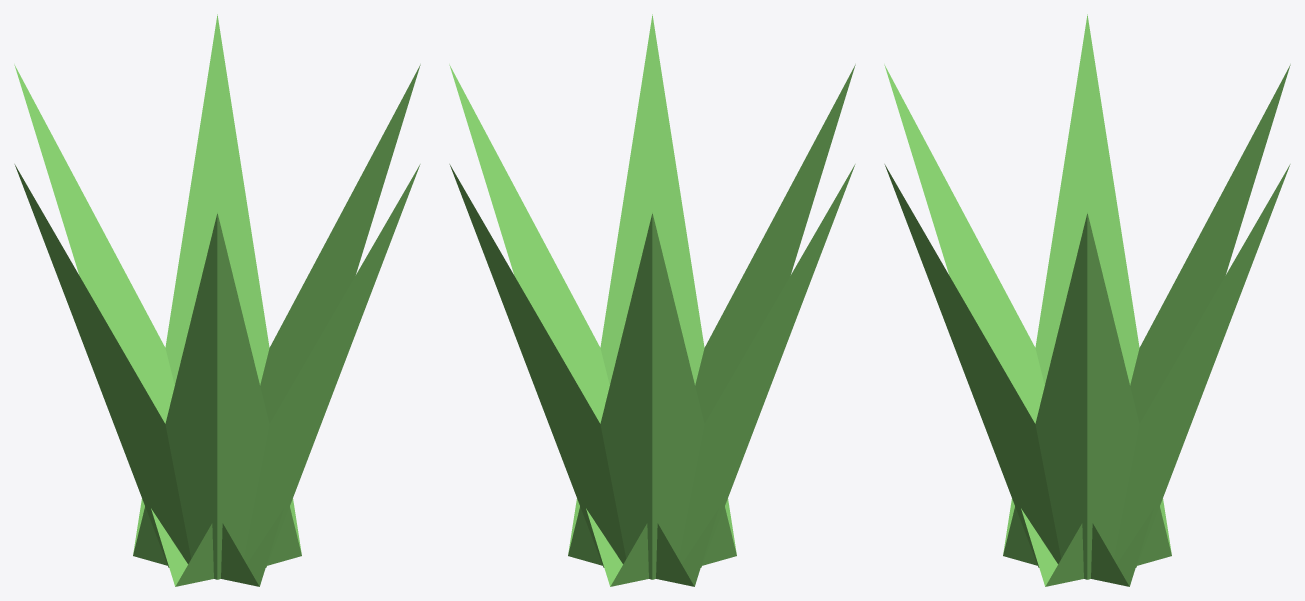
Rendered from prop_grass_tuft.glb.
The picture shows the model from 3 angles, left to right: view 1: azimuth 30°, elevation 25°; view 2: azimuth 150°, elevation 25°; view 3: azimuth 270°, elevation 25°; orthographic projection.
Visible parts, largest first — view 1: Mesh_Grass_Tuft; view 2: Mesh_Grass_Tuft; view 3: Mesh_Grass_Tuft.
Boxes of the visible parts, box(x1,y1,x2,y2) form: Mesh_Grass_Tuft: box(14, 14, 420, 586); Mesh_Grass_Tuft: box(449, 14, 855, 586); Mesh_Grass_Tuft: box(884, 14, 1290, 586).
Bounding box in the file's own units: 0.5 × 0.52 × 0.433.
